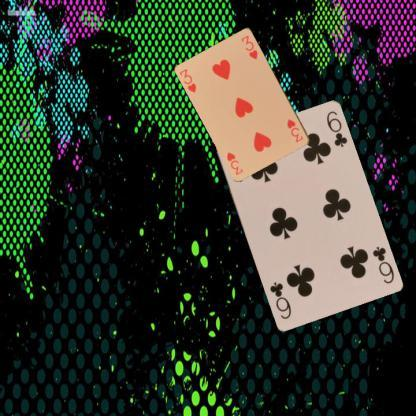3h: (176, 66, 198, 94), (284, 117, 304, 144)
6c: (369, 243, 395, 285)
